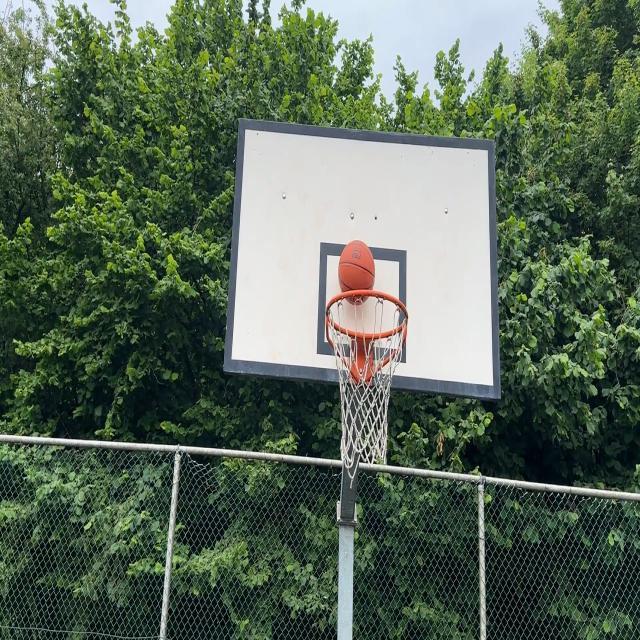rebound_hit: (338, 242, 377, 310)
